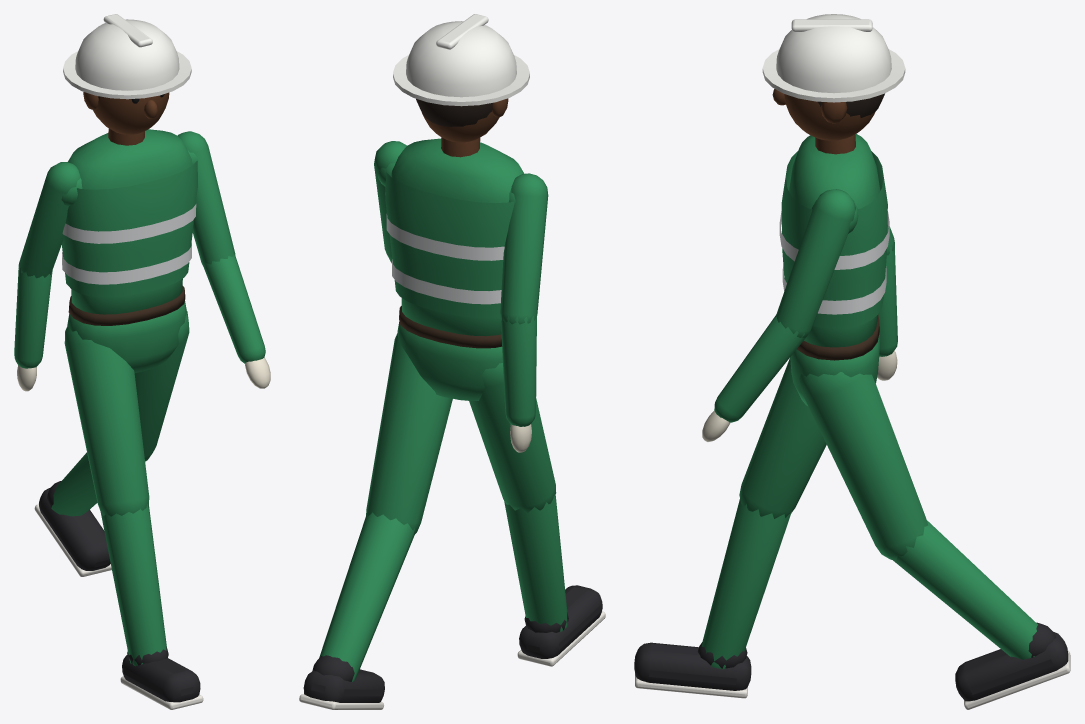
The model's file is crew_walk.fbx.
The picture shows the model from 3 angles, left to right: view 1: azimuth 30°, elevation 25°; view 2: azimuth 150°, elevation 25°; view 3: azimuth 270°, elevation 25°; orthographic projection. The views are drawn at different scales.
Parts seen in each view (by area): view 1: crew_walk; view 2: crew_walk; view 3: crew_walk.
Part boxes in pixels (x1,y1,x2,y2): crew_walk: [14, 14, 270, 709]; crew_walk: [299, 14, 605, 709]; crew_walk: [634, 14, 1070, 709].
Bounding box in the file's own units: 0.5306 × 1.74 × 1.01.
